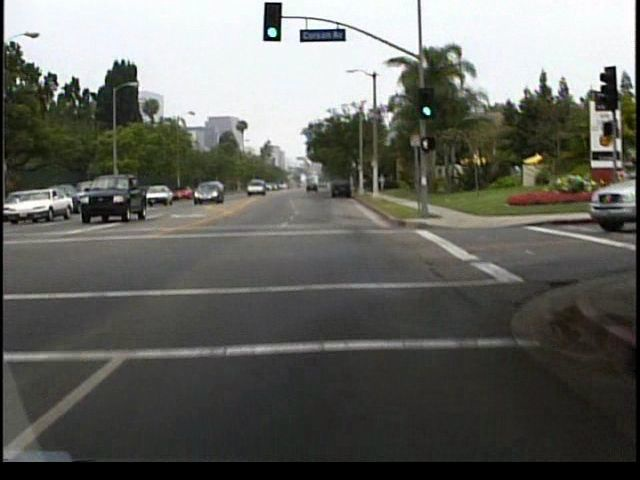person: (370, 176, 379, 199), (378, 172, 387, 192)
